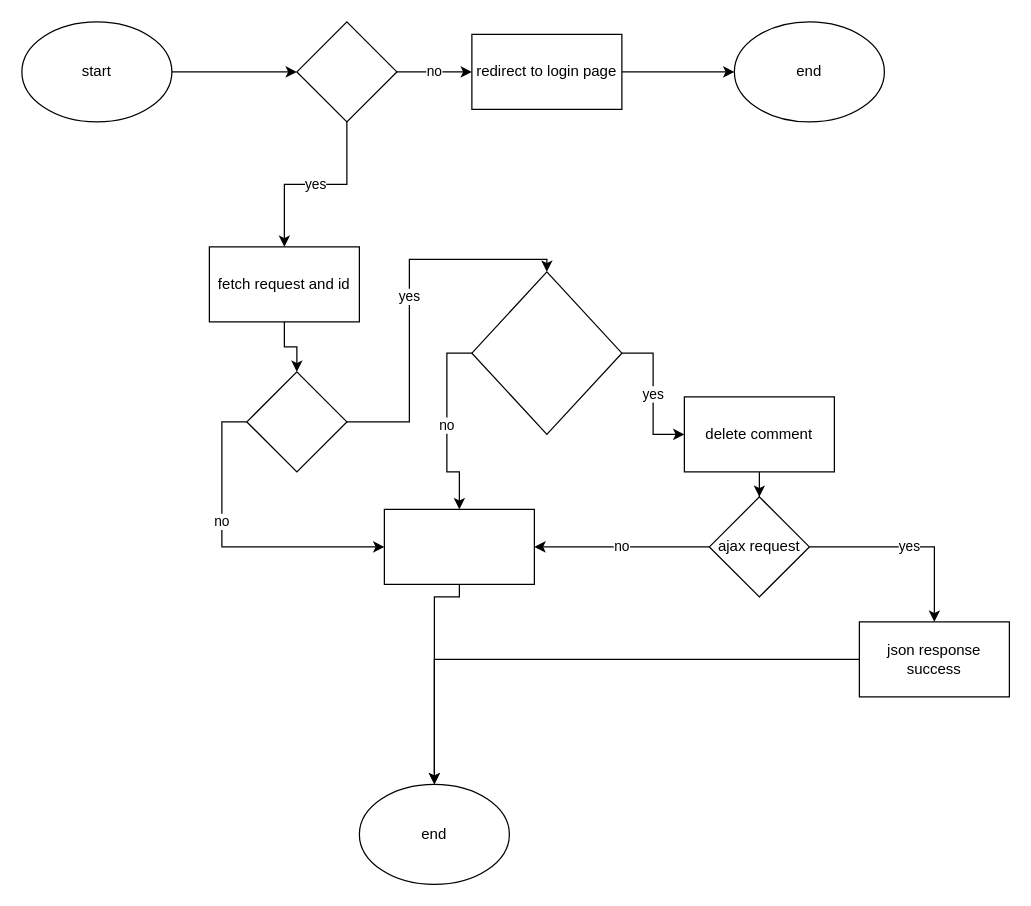
This 1031x906 diagram has some shape labels left out. The centre of each missing label's shape, as x and y in pixels:
"logged in" belongs at point 346,71.
"post request" belongs at point 296,421.
"redirect to post detail page" belongs at point 458,546.
"user is the author of the comment" belongs at point 546,352.
